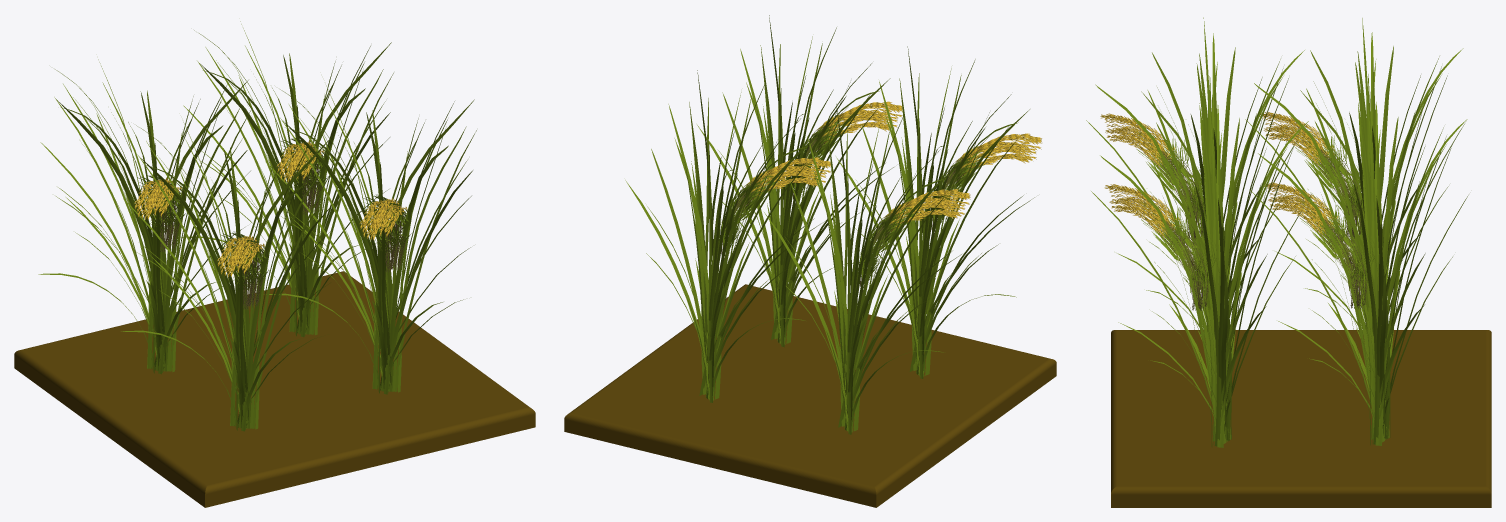
The model's file is rice1.fbx.
The picture shows the model from 3 angles, left to right: view 1: azimuth 30°, elevation 25°; view 2: azimuth 150°, elevation 25°; view 3: azimuth 270°, elevation 25°; orthographic projection. The views are drawn at different scales.
Parts seen in each view (by area): view 1: 平面, Grass_Giant Wild Rye .082; view 2: 平面, Grass_Giant Wild Rye .082; view 3: 平面, Grass_Giant Wild Rye .082.
Part boxes in pixels (x1,y1,x2,y2): 平面: (14, 271, 535, 507); Grass_Giant Wild Rye .082: (38, 21, 476, 431); 平面: (564, 284, 1056, 507); Grass_Giant Wild Rye .082: (625, 15, 1041, 434); 平面: (1111, 330, 1491, 507); Grass_Giant Wild Rye .082: (1086, 17, 1468, 447).
Size of the model in its own units: 40.47 by 34.91 by 39.55.
